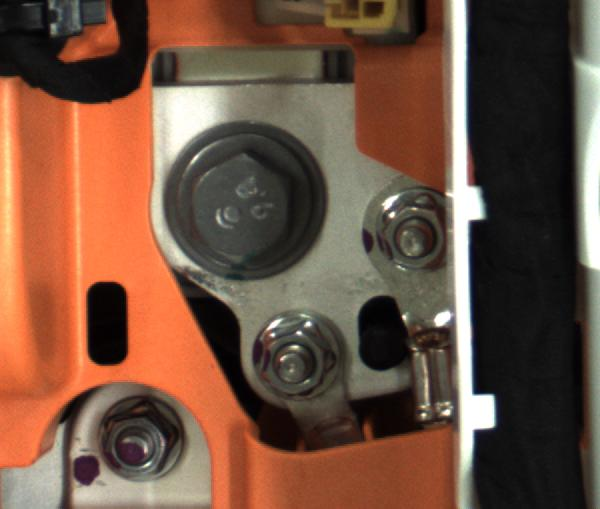nut_b: (161, 117, 324, 277)
screw_s: (239, 304, 351, 400), (365, 181, 449, 288), (102, 398, 196, 480)
